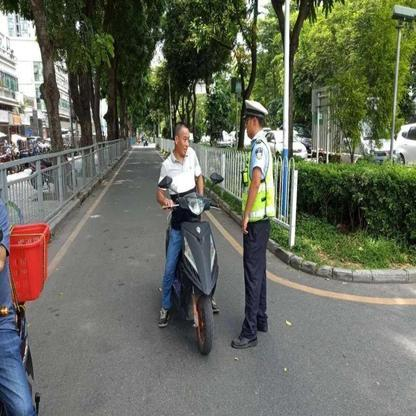target: (152, 123, 229, 357)
